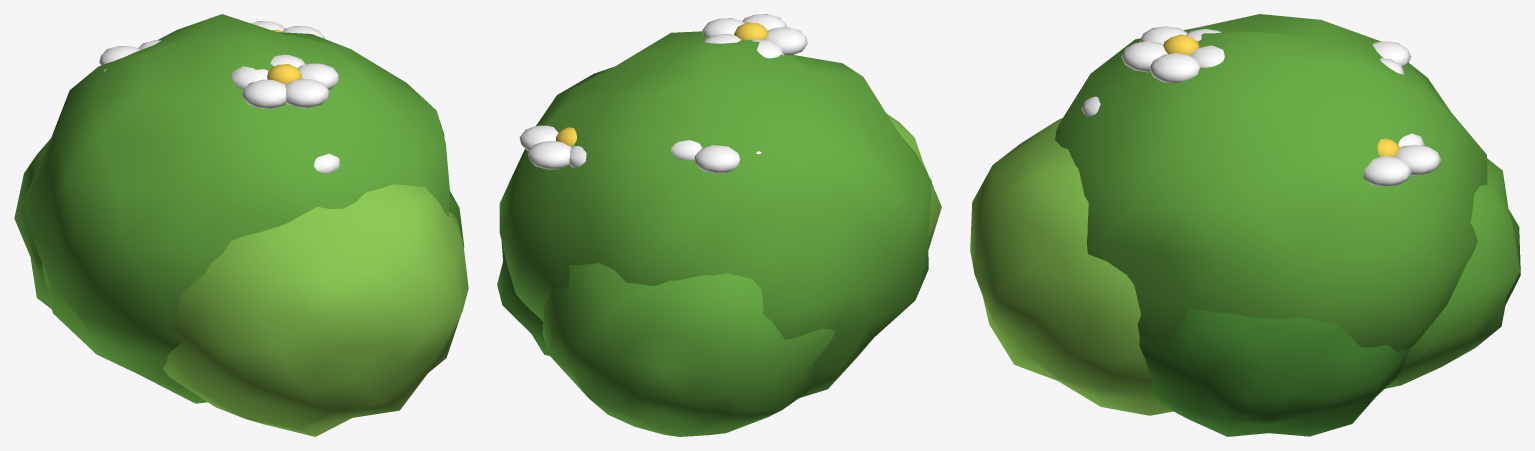
The model's file is FlowerBushWhite.fbx.
3 views of the same model, side by side, from view 1: azimuth 30°, elevation 25°; view 2: azimuth 150°, elevation 25°; view 3: azimuth 270°, elevation 25° (orthographic). The views are drawn at different scales.
Parts seen in each view (by area): view 1: FlowerBushWhite; view 2: FlowerBushWhite; view 3: FlowerBushWhite.
Boxes of the visible parts, x1=… form: FlowerBushWhite: x1=14, y1=14, x2=468, y2=436; FlowerBushWhite: x1=497, y1=14, x2=941, y2=436; FlowerBushWhite: x1=970, y1=14, x2=1520, y2=436.
Bounding box in the file's own units: 0.9853 × 0.8386 × 1.16.
Materials: 1 (1 with a texture image).
